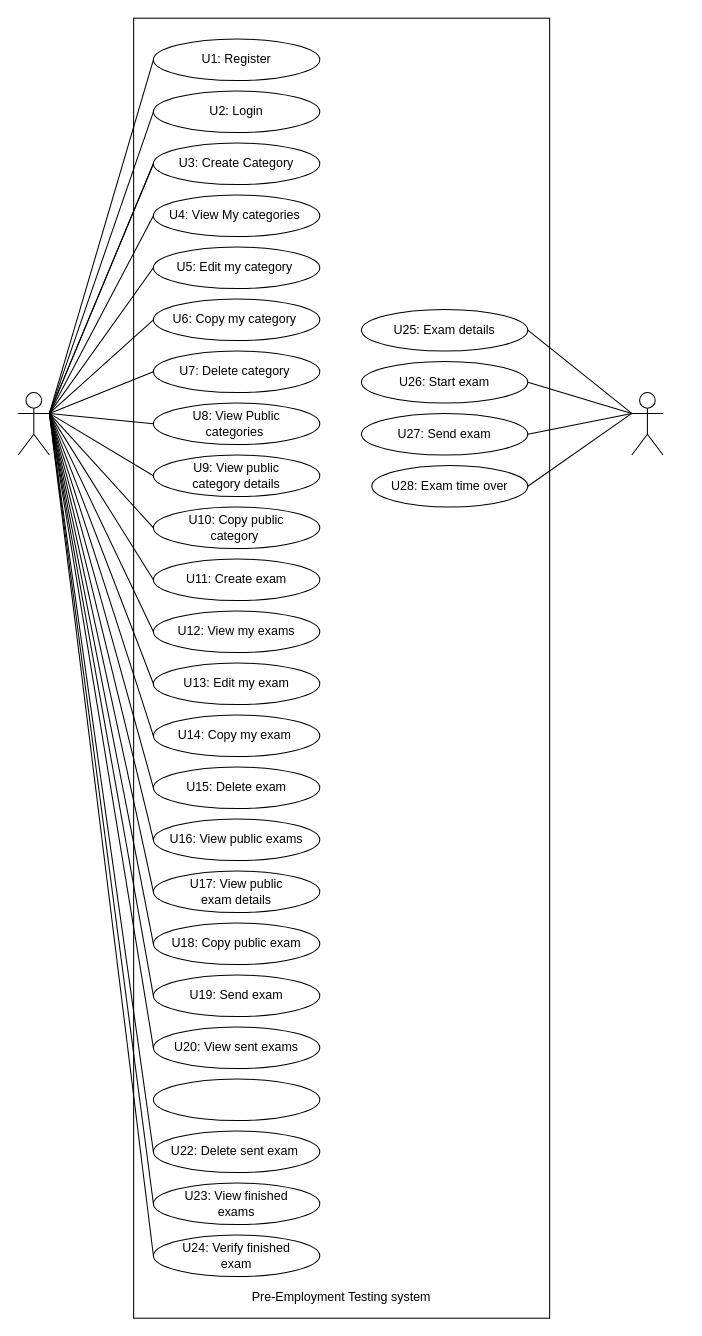
Image size: 702x1336. Some labels were removed from this diagram. Here are the shapes that lost their labels. From the top down, the box of each, then its label:
(17, 392, 49, 455): Staff
(631, 392, 663, 455): Job applicant
(152, 1078, 320, 1121): U21: View sent exam details
